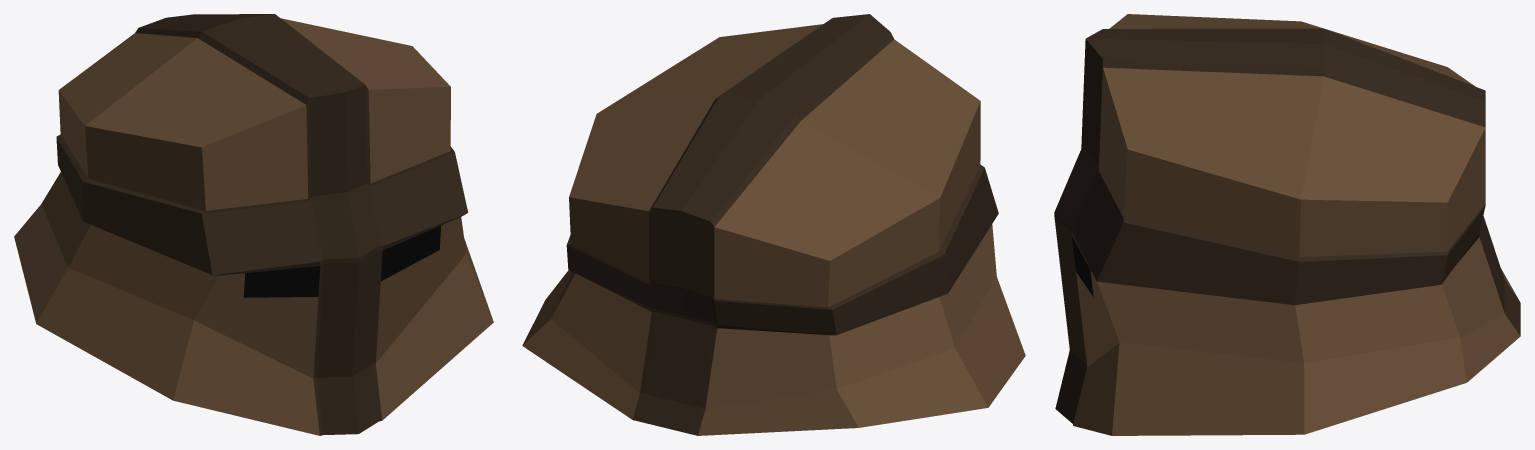
File: Armor_3_Brown.fbx
3 views of the same model, side by side, from view 1: azimuth 30°, elevation 25°; view 2: azimuth 150°, elevation 25°; view 3: azimuth 270°, elevation 25° (orthographic). The views are drawn at different scales.
Parts seen in each view (by area): view 1: Armor_3_Brown_Part_1, Armor_3_Brown_Part_2, Armor_3_Brown_Part_3; view 2: Armor_3_Brown_Part_1, Armor_3_Brown_Part_2; view 3: Armor_3_Brown_Part_1, Armor_3_Brown_Part_2, Armor_3_Brown_Part_3.
Boxes of the visible parts, <box> form: Armor_3_Brown_Part_1: <box>14,18,493,435</box>; Armor_3_Brown_Part_2: <box>56,14,468,435</box>; Armor_3_Brown_Part_3: <box>243,225,441,297</box>; Armor_3_Brown_Part_1: <box>522,24,1025,435</box>; Armor_3_Brown_Part_2: <box>566,14,998,435</box>; Armor_3_Brown_Part_1: <box>1073,14,1520,435</box>; Armor_3_Brown_Part_2: <box>1054,28,1520,424</box>; Armor_3_Brown_Part_3: <box>1072,236,1093,296</box>.
Bounding box in the file's own units: 39.61 × 29.75 × 33.95.
